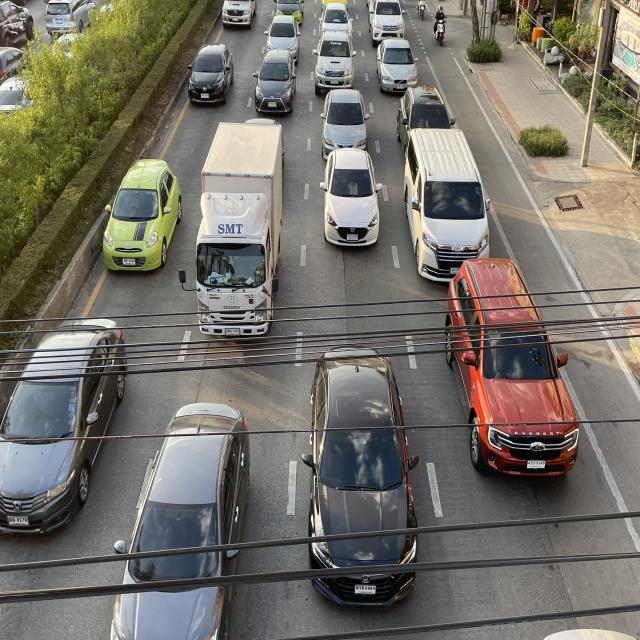car: (108, 399, 252, 640), (304, 332, 423, 608), (443, 254, 581, 482), (0, 309, 129, 540), (400, 127, 494, 286), (317, 147, 385, 252), (393, 83, 458, 159), (319, 86, 371, 159)
truck: (189, 118, 287, 345)
